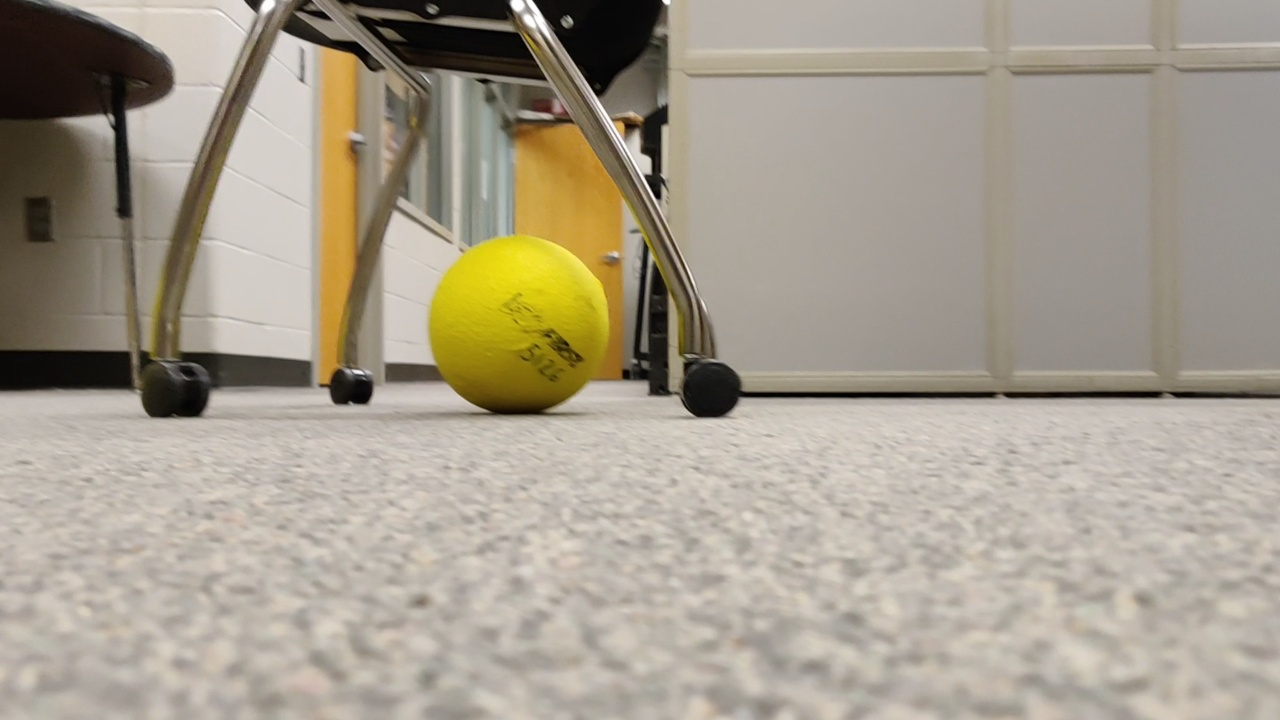Ball: (425, 235, 615, 422)
